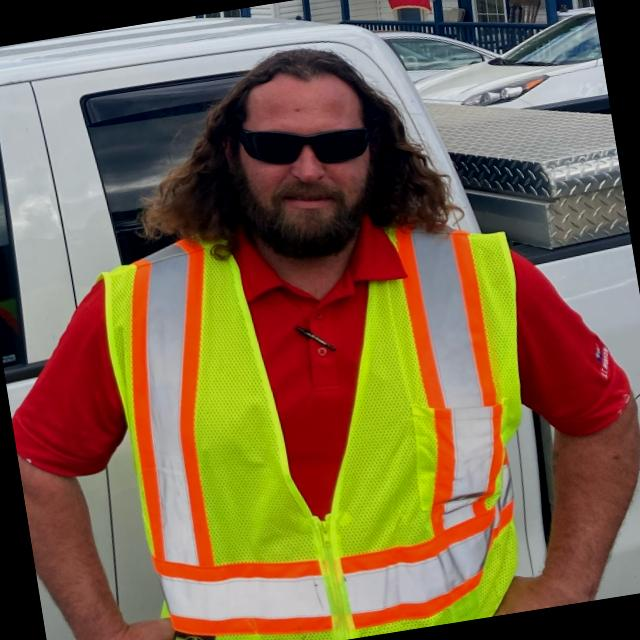goggles: (208, 85, 412, 198)
no-helmet: (181, 9, 411, 150)
vest: (105, 210, 555, 640)
